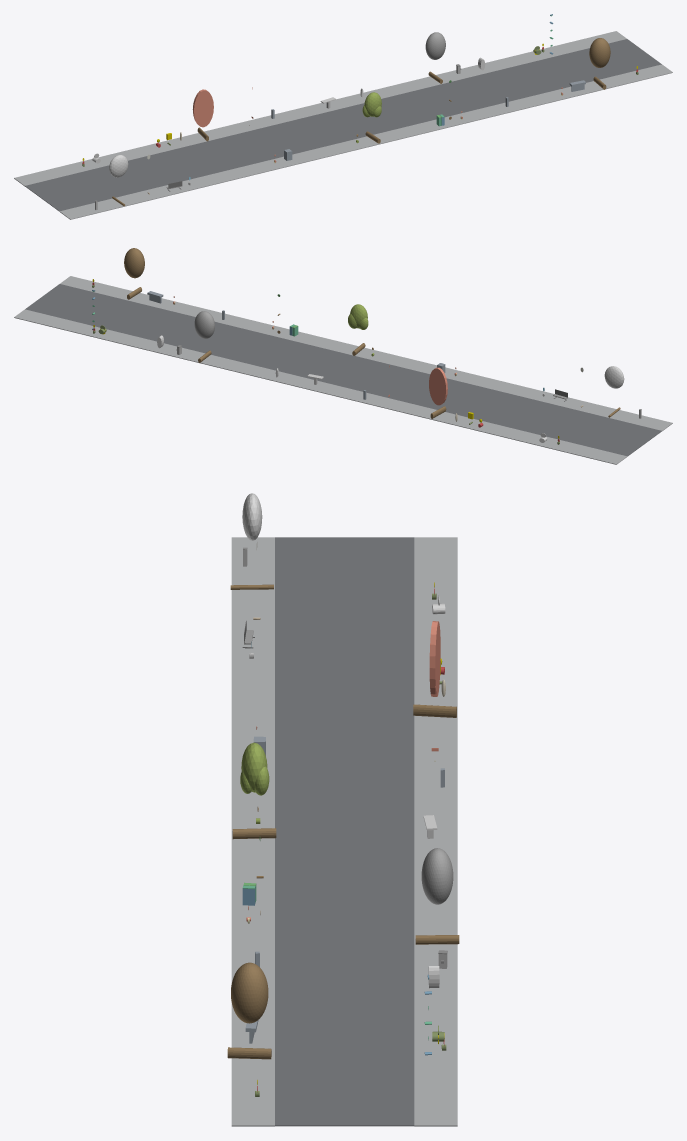
The picture shows the model from 3 angles, top to bottom: view 1: azimuth 30°, elevation 25°; view 2: azimuth 150°, elevation 25°; view 3: azimuth 270°, elevation 25°; orthographic projection. The views are drawn at different scales.
Visible parts, largest first — view 1: road_slab, sidewalk_left, sidewalk_right, inst_0013, inst_0016, inst_0015, inst_0014, inst_0012; view 2: road_slab, sidewalk_right, sidewalk_left, inst_0013, inst_0016, inst_0015, inst_0014, inst_0012; view 3: road_slab, sidewalk_right, sidewalk_left, inst_0016, inst_0015, inst_0014, inst_0013, inst_0012.
Boxes of the visible parts, <box> form: road_slab: <box>25,39,661,211</box>; sidewalk_left: <box>59,64,672,219</box>; sidewalk_right: <box>14,31,626,186</box>; inst_0013: <box>192,89,213,141</box>; inst_0016: <box>589,38,610,89</box>; inst_0015: <box>425,32,445,83</box>; inst_0014: <box>362,92,381,143</box>; inst_0012: <box>109,155,128,206</box>; road_slab: <box>25,284,661,456</box>; sidewalk_right: <box>14,309,627,464</box>; sidewalk_left: <box>60,276,672,431</box>; inst_0013: <box>429,367,447,418</box>; inst_0016: <box>124,248,144,299</box>; inst_0015: <box>194,311,214,362</box>; inst_0014: <box>348,304,368,355</box>; inst_0012: <box>604,366,624,417</box>; road_slab: <box>275,537,414,1126</box>; sidewalk_right: <box>414,537,457,1126</box>; sidewalk_left: <box>231,537,274,1126</box>; inst_0016: <box>227,962,271,1059</box>; inst_0015: <box>415,848,459,944</box>; inst_0014: <box>232,742,276,839</box>; inst_0013: <box>413,621,456,717</box>; inst_0012: <box>230,493,273,589</box>.
Size of the model in its own units: 80 by 6.08 by 13.32.
